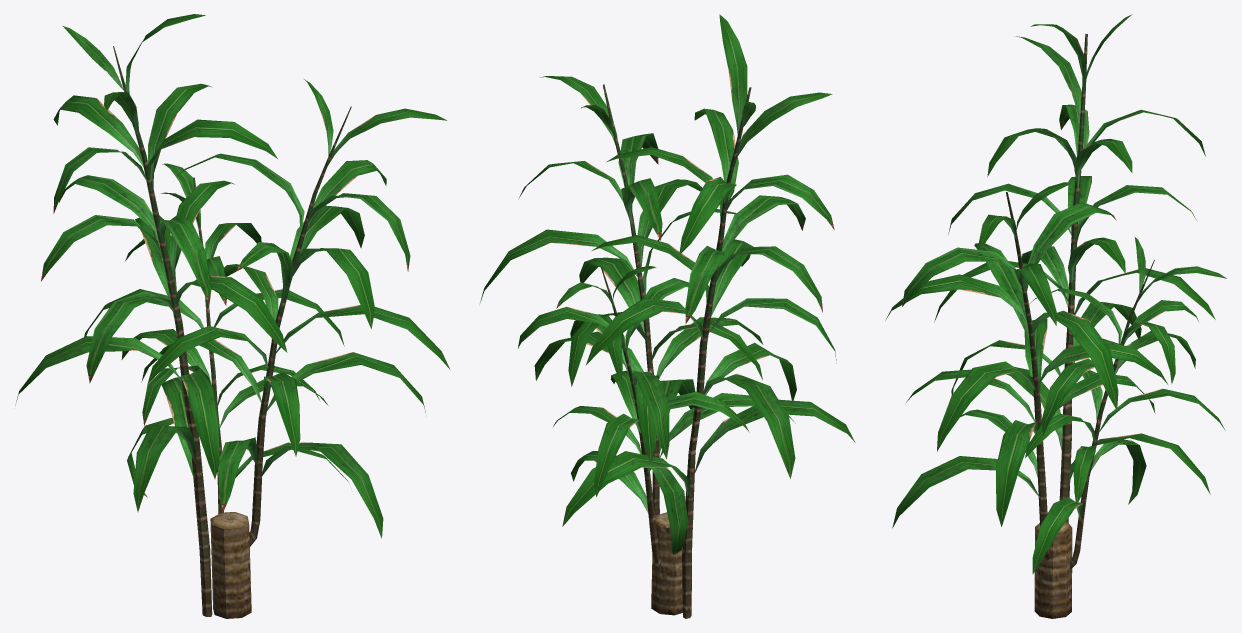
Rendered from yuccaTree.fbx.
3 renders of one model, left to right at view 1: azimuth 30°, elevation 25°; view 2: azimuth 150°, elevation 25°; view 3: azimuth 270°, elevation 25°, orthographic. The views are drawn at different scales.
Visible parts, largest first — view 1: Yucca; view 2: Yucca; view 3: Yucca.
Boxes of the visible parts, x1,y1,x2,y2 form: Yucca: (15,14,450,618); Yucca: (480,14,855,618); Yucca: (885,14,1226,618).
Size of the model in its own units: 86.17 by 144 by 78.89.
